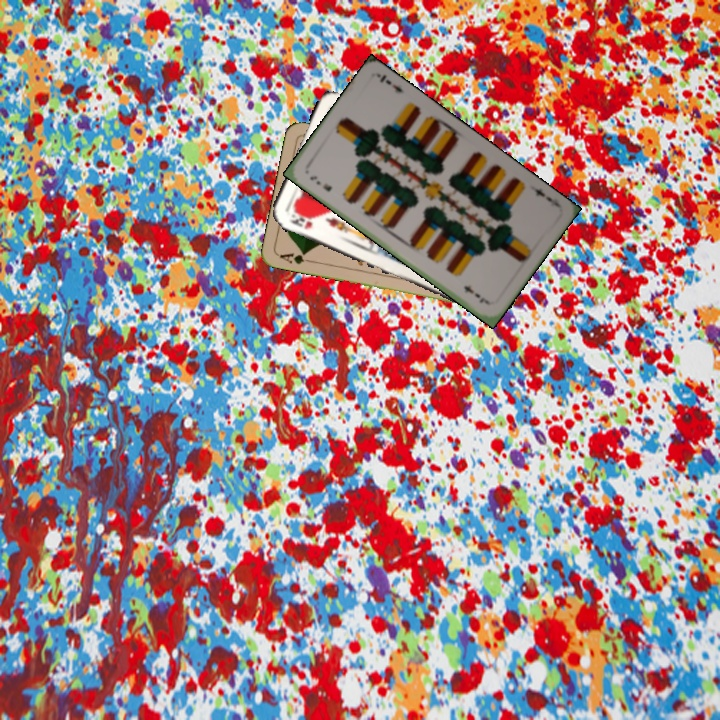E7: (306, 171, 335, 194), (530, 184, 555, 205)
GA: (276, 248, 316, 267)
HK: (286, 208, 315, 232)
